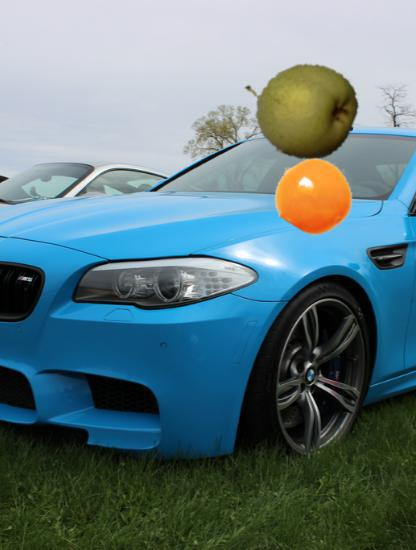Pear: (241, 50, 357, 166)
Physalis: (274, 156, 355, 237)
